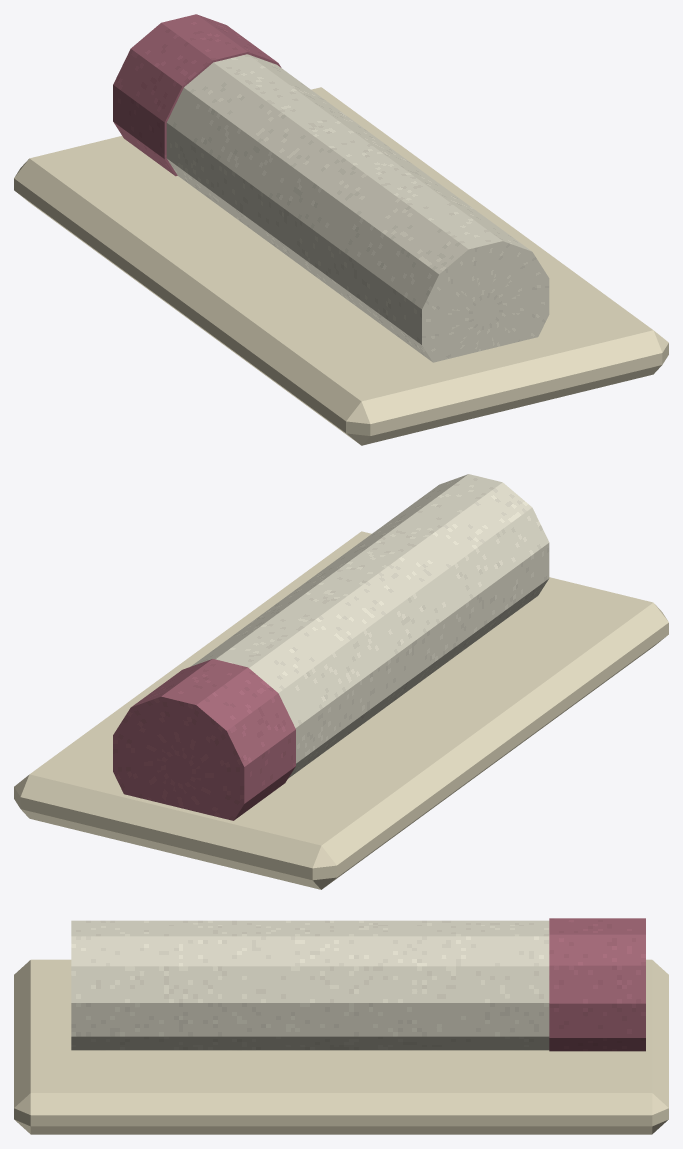
Rendered from flu_shot.glb.
3 renders of one model, top to bottom at view 1: azimuth 30°, elevation 25°; view 2: azimuth 150°, elevation 25°; view 3: azimuth 270°, elevation 25°, orthographic. The views are drawn at different scales.
Parts seen in each view (by area): view 1: block_sealed sterile packaging, block_sealed syringe body, block_protective end; view 2: block_sealed sterile packaging, block_sealed syringe body, block_protective end; view 3: block_sealed syringe body, block_sealed sterile packaging, block_protective end.
Part boxes in pixels (x1=…): block_sealed sterile packaging: x1=14, y1=87, x2=668, y2=445; block_sealed syringe body: x1=166, y1=54, x2=549, y2=362; block_protective end: x1=113, y1=14, x2=281, y2=176; block_sealed sterile packaging: x1=14, y1=531, x2=668, y2=889; block_sealed syringe body: x1=191, y1=474, x2=549, y2=778; block_protective end: x1=113, y1=659, x2=295, y2=820; block_sealed syringe body: x1=71, y1=920, x2=549, y2=1050; block_sealed sterile packaging: x1=14, y1=959, x2=668, y2=1134; block_protective end: x1=549, y1=918, x2=645, y2=1051.
Size of the model in its own units: 0.0216 by 0.00965 by 0.0405.
1 material, 1 textured.
